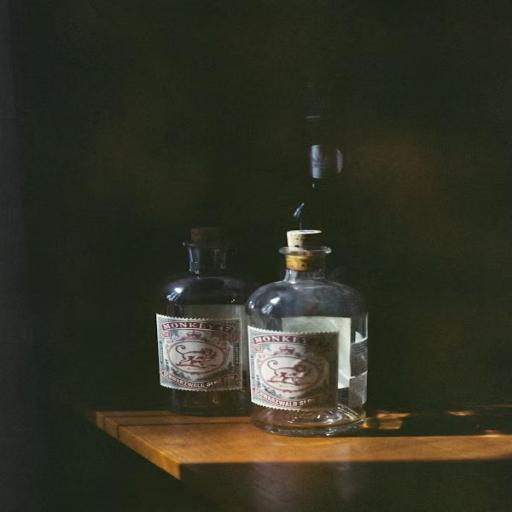bottle: (230, 224, 403, 446), (156, 214, 262, 422)
